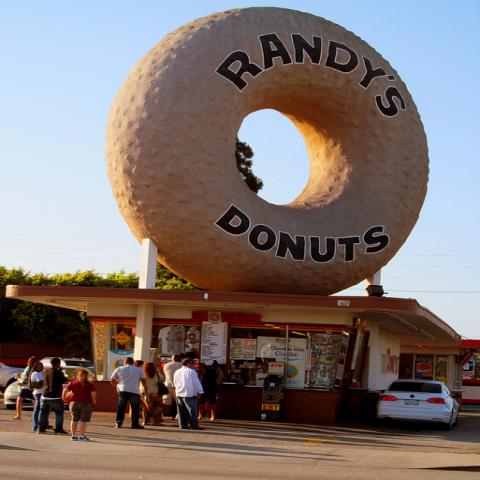car: (375, 378, 460, 426), (4, 380, 34, 411), (0, 360, 25, 396), (39, 357, 93, 368)
